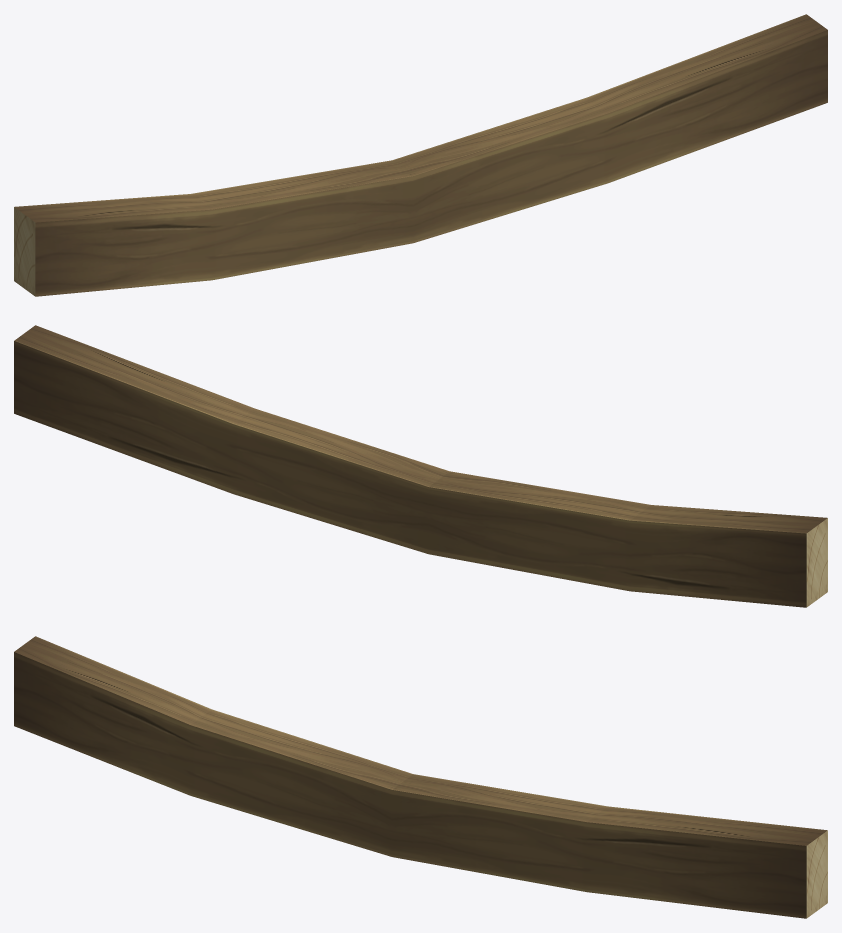
3 renders of one model, top to bottom at view 1: azimuth 30°, elevation 25°; view 2: azimuth 150°, elevation 25°; view 3: azimuth 330°, elevation 25°, orthographic.
Parts seen in each view (by area): view 1: part_11b:Mesh; view 2: part_11b:Mesh; view 3: part_11b:Mesh.
Boxes of the visible parts, bbox=[...] form: part_11b:Mesh: bbox=[14, 14, 827, 296]; part_11b:Mesh: bbox=[14, 325, 827, 607]; part_11b:Mesh: bbox=[14, 636, 827, 918].
Size of the model in its own units: 6.98 by 0.95 by 0.3274.
